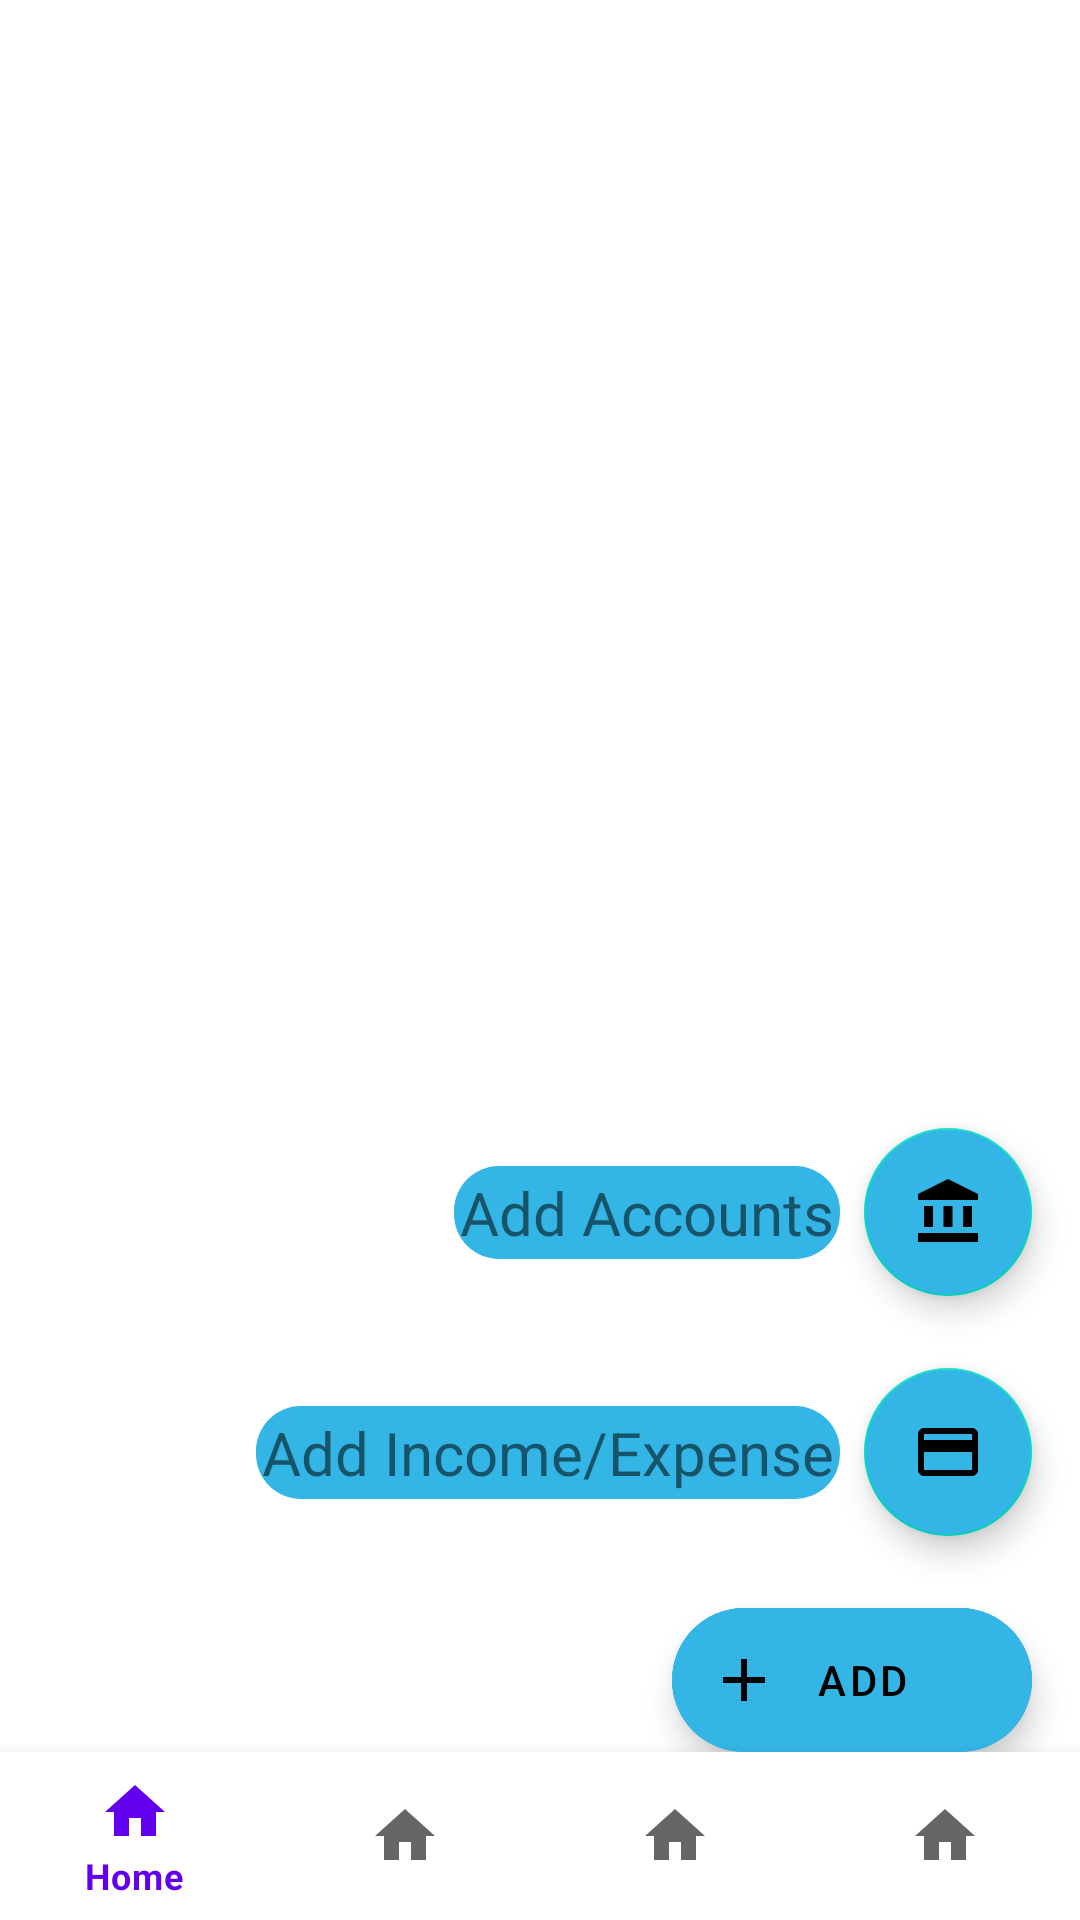

Named icons in this screenshot (1080 x 1920) and their bounding boxes, (x1, y1, x2, y2):
bank: (864, 1128, 1032, 1296)
payment: (864, 1368, 1032, 1536)
